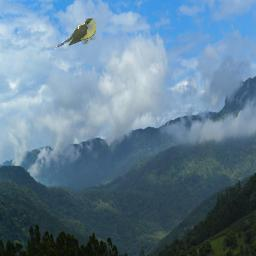Cuckoo: (53, 18, 96, 49)
